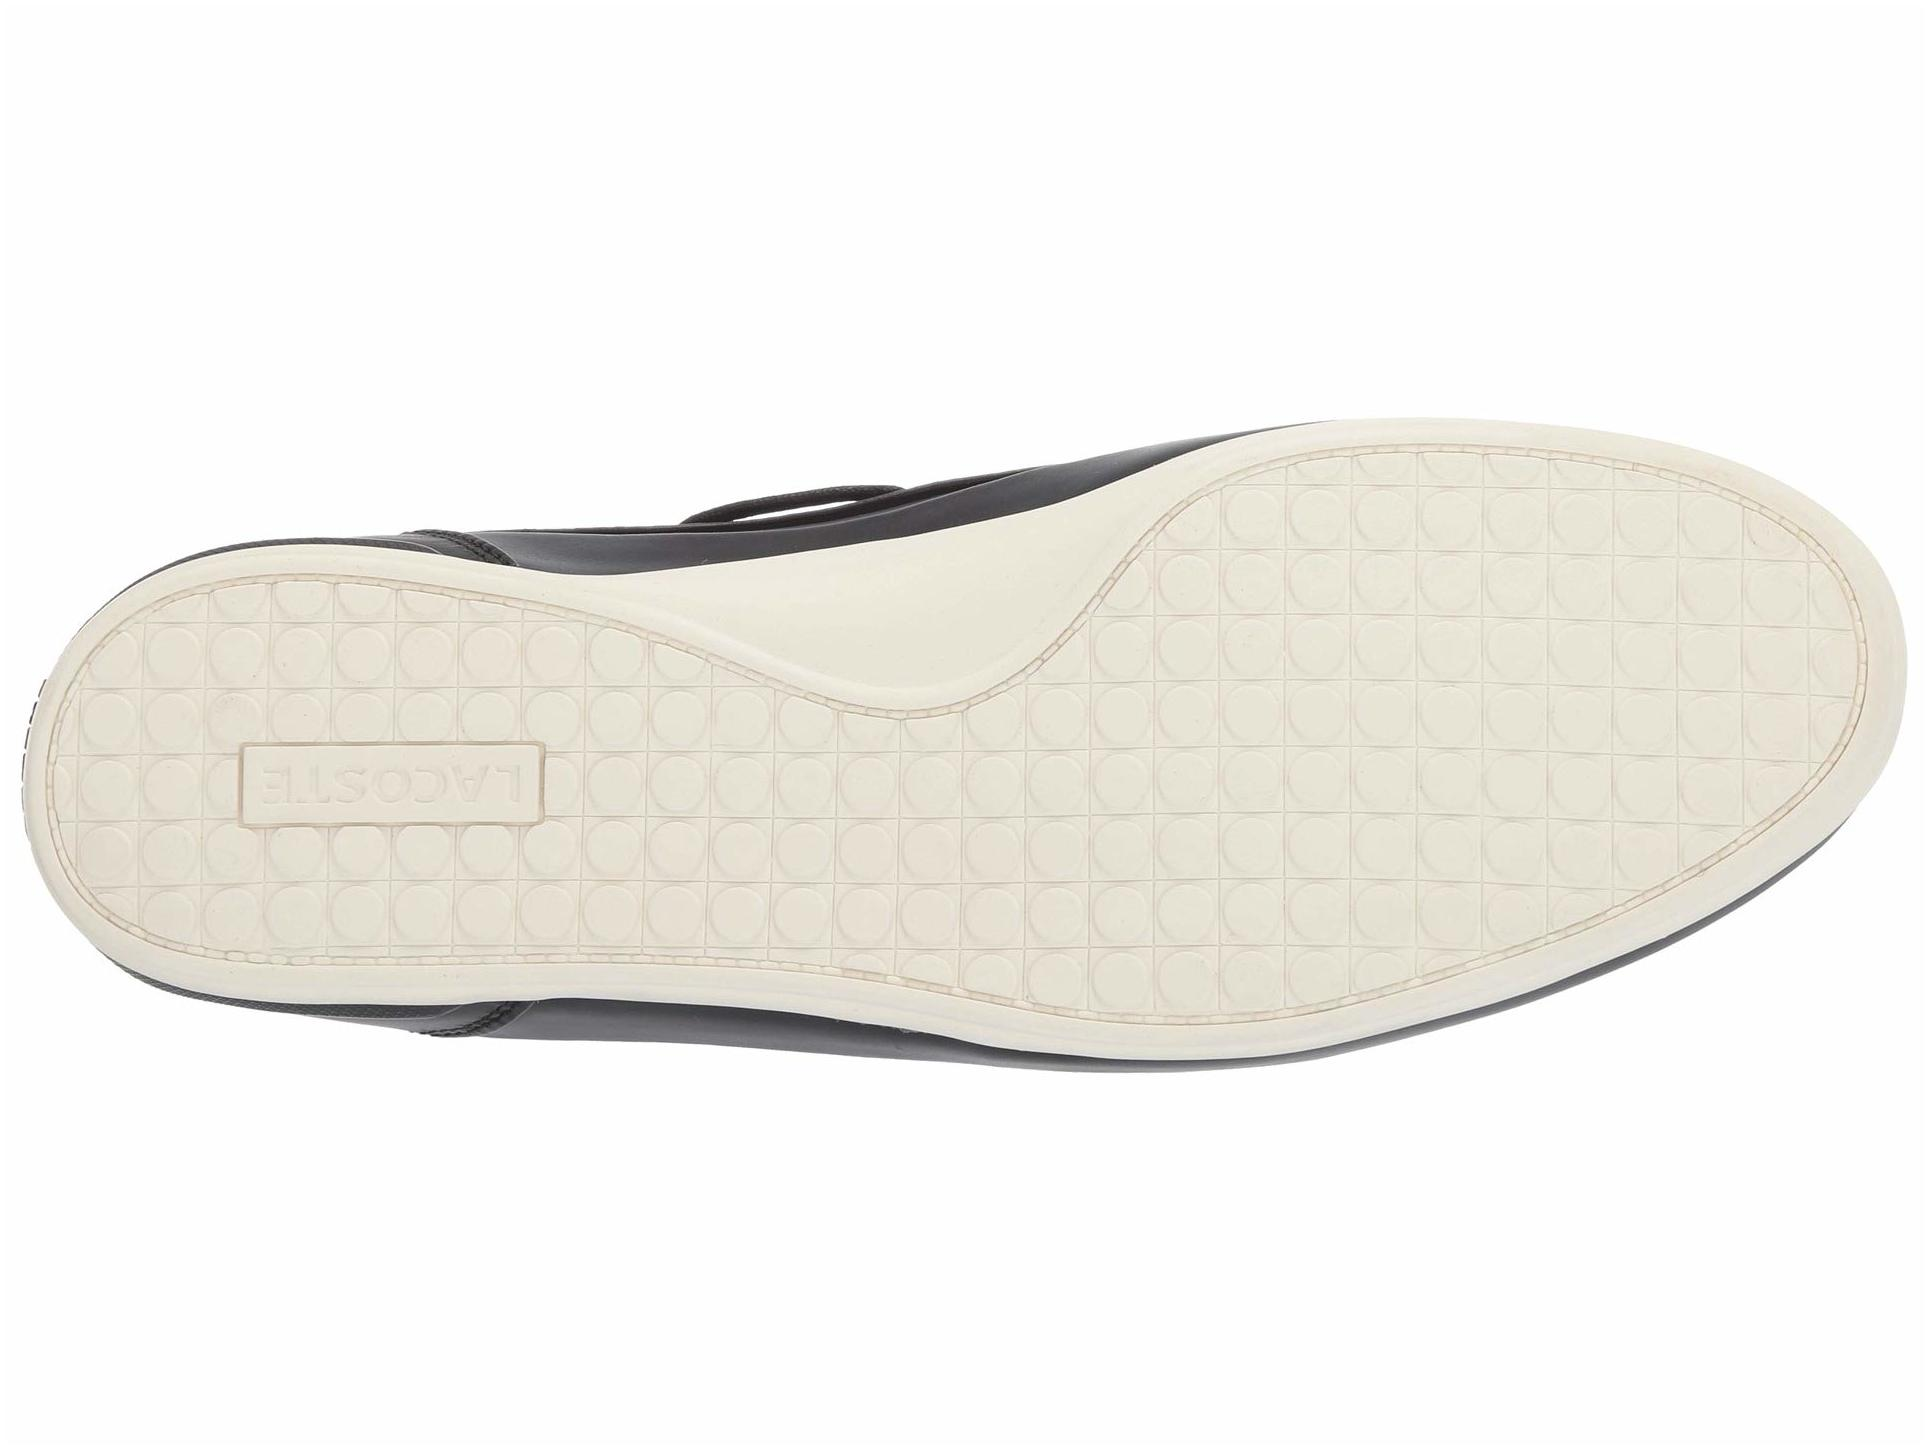circle: (105, 600, 679, 960), (721, 733, 1459, 967), (1220, 475, 1765, 736)
quad: (105, 600, 679, 960), (721, 733, 1459, 967), (1220, 475, 1765, 736)
text: (105, 600, 679, 960)
